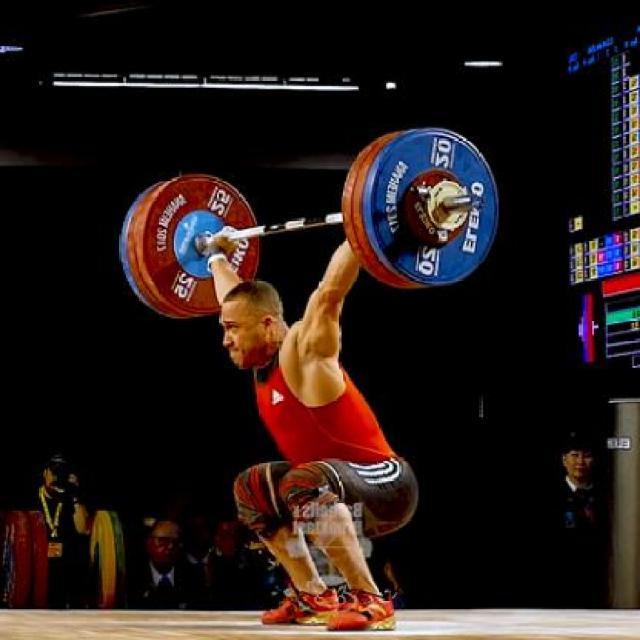Barbell: (463, 193, 489, 214)
